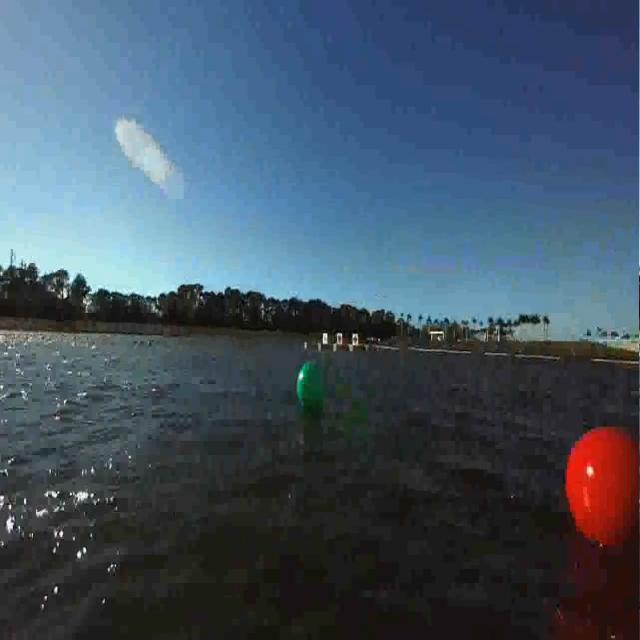green-buoy: (297, 357, 326, 412)
red-buoy: (565, 427, 640, 550)
